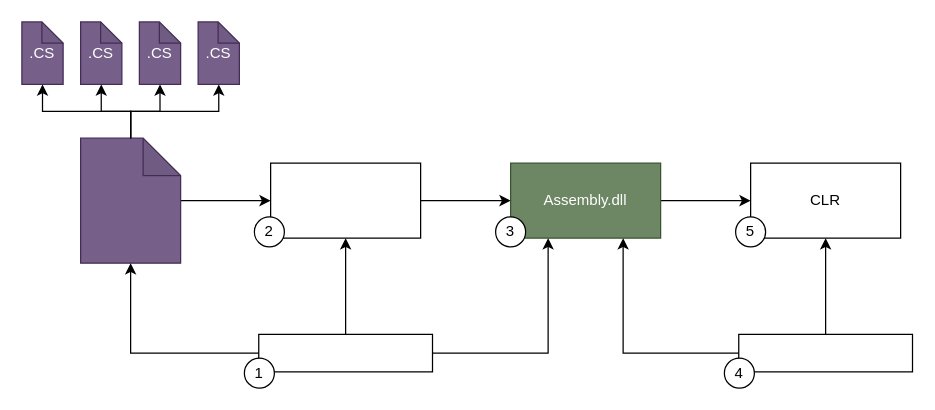
This 935x410 diagram has some shape labels left out. The shapes that lost their labels are listed below. From the top down, each one's centre as x and y in pixels, then its label:
(130,200): .CSPROJ
(345,200): Code Optimization
(345,352): dotnet build -c Release
(825,352): dotnet Assembly.dll
